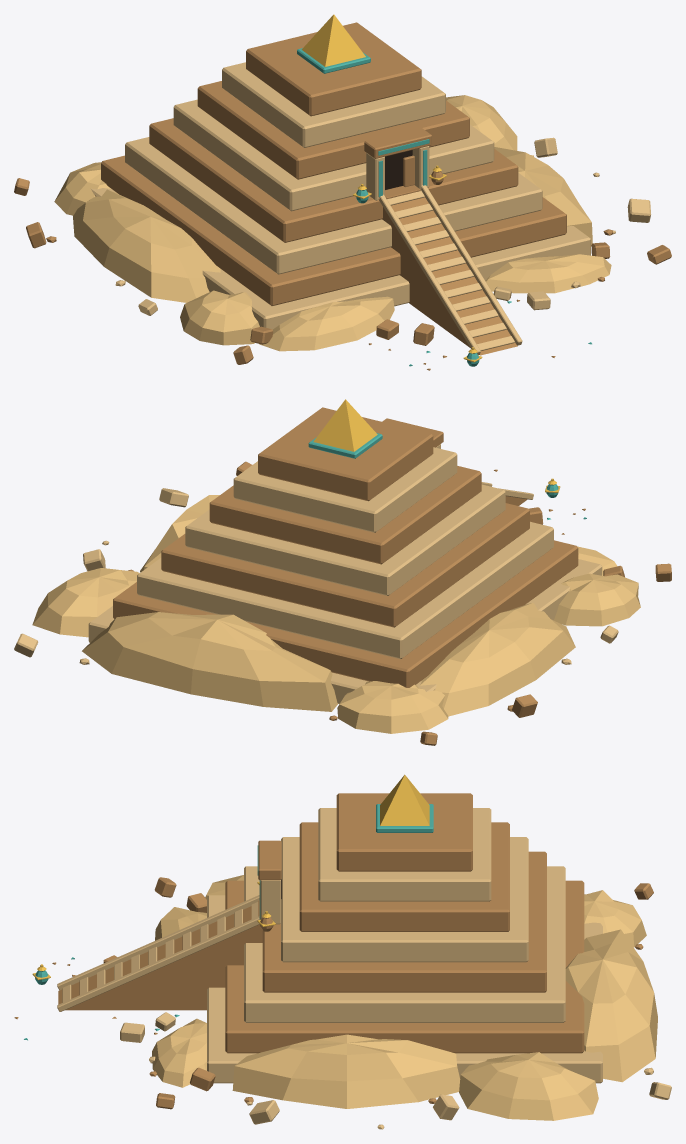
The model's file is desert-step-pyramid.glb.
3 renders of one model, top to bottom at view 1: azimuth 30°, elevation 25°; view 2: azimuth 150°, elevation 25°; view 3: azimuth 270°, elevation 25°, orthographic. The views are drawn at different scales.
Parts seen in each view (by area): view 1: Tier_2, Tier_3, Tier_4, Dune_1, Tier_8, Tier_5, Tier_6, Tier_7, Tier_1, Ramp, Dune_4, Dune_5 (+12 smaller); view 2: Dune_3, Tier_3, Tier_4, Tier_2, Tier_5, Dune_1, Tier_6, Tier_8, Tier_7, Dune_8, Dune_7, Dune_6 (+4 smaller); view 3: Tier_3, Dune_2, Tier_2, Tier_4, Tier_5, Tier_6, Dune_3, Tier_8, Ramp, Tier_7, Dune_7, Tier_1 (+10 smaller).
Boxes of the visible parts, x1,y1,x2,y2 form: Tier_2: [101, 155, 566, 305]; Tier_3: [125, 137, 542, 274]; Tier_4: [149, 118, 518, 242]; Dune_1: [73, 189, 220, 302]; Tier_8: [246, 22, 421, 116]; Tier_5: [173, 99, 494, 211]; Tier_6: [197, 81, 469, 179]; Tier_7: [222, 62, 445, 147]; Tier_1: [91, 188, 590, 329]; Ramp: [382, 197, 517, 355]; Dune_4: [259, 296, 394, 351]; Dune_5: [485, 254, 611, 293]; Dune_3: [82, 612, 337, 711]; Tier_3: [137, 521, 553, 659]; Tier_4: [161, 503, 529, 627]; Tier_2: [113, 540, 578, 687]; Tier_5: [185, 484, 505, 595]; Dune_1: [420, 603, 575, 716]; Tier_6: [209, 466, 481, 564]; Tier_8: [258, 407, 433, 501]; Tier_7: [233, 447, 457, 532]; Dune_8: [337, 681, 448, 733]; Dune_7: [32, 568, 139, 637]; Dune_6: [553, 573, 640, 626]; Tier_3: [244, 866, 565, 1022]; Dune_2: [232, 1034, 460, 1108]; Tier_2: [225, 880, 584, 1053]; Tier_4: [262, 851, 546, 992]; Tier_5: [281, 837, 528, 962]; Tier_6: [299, 822, 509, 931]; Dune_3: [565, 929, 657, 1082]; Tier_8: [336, 793, 472, 871]; Ramp: [58, 906, 262, 1010]; Tier_7: [318, 808, 491, 901]; Dune_7: [459, 1052, 598, 1120]; Tier_1: [207, 895, 602, 1083].
Size of the model in its own units: 148 by 60.5 by 160.
